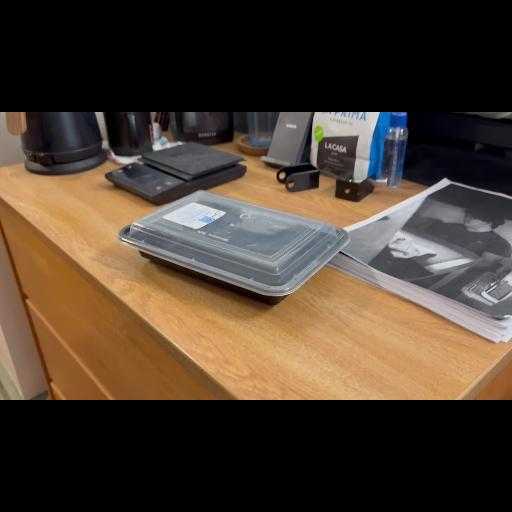rigid_plastic_container: (124, 187, 352, 305)
